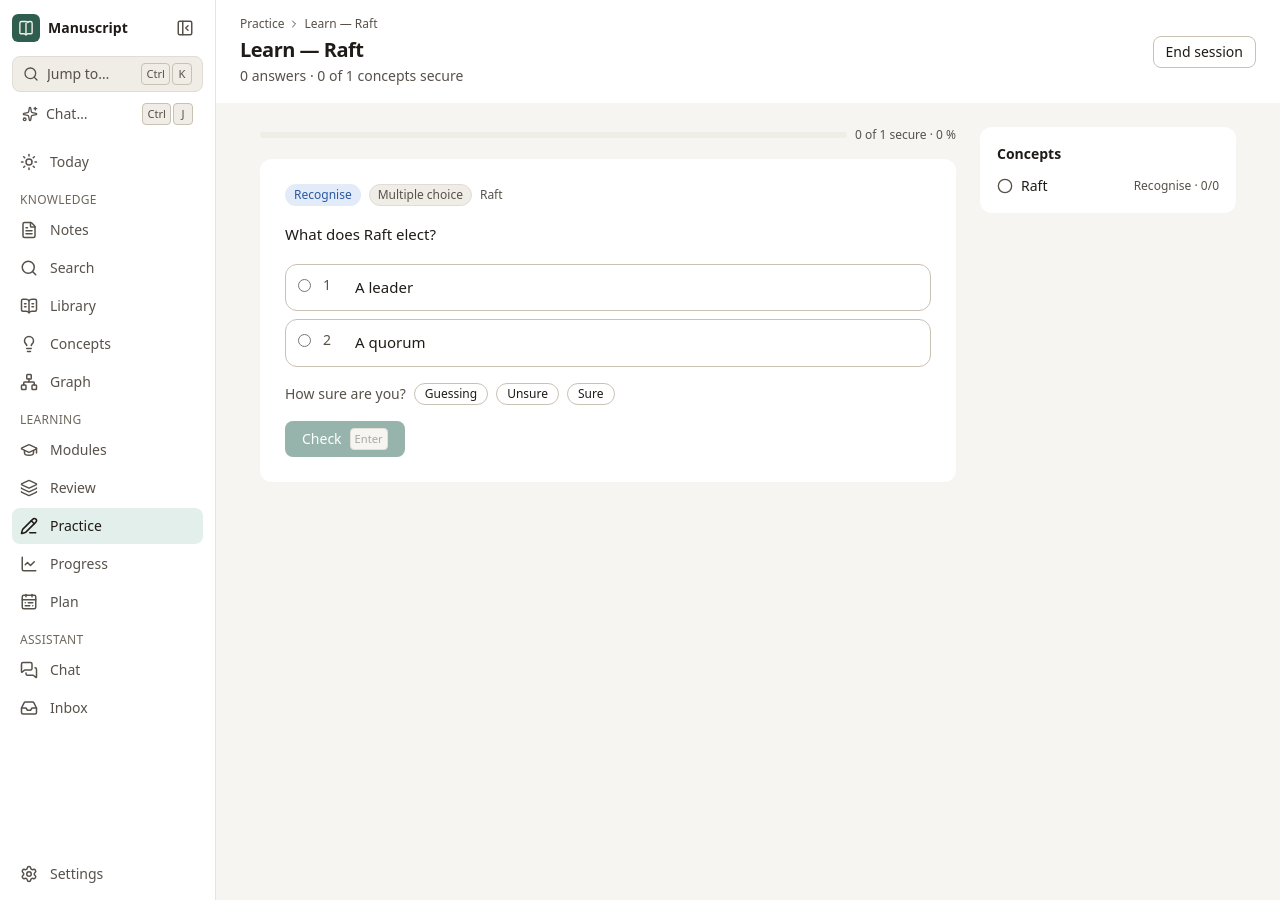
Test: a Learn session › asks what the engine chooses, shows the feedback, and ends when every concept is secure
Expected: the heading "Learn — Raft" is shown, 240,36 -> 364,63
Expected: the text "Recognise" is shown, 285,184 -> 361,206
Click the radio button labelled "1 A leader": (304, 285) 298,278 -> 311,292
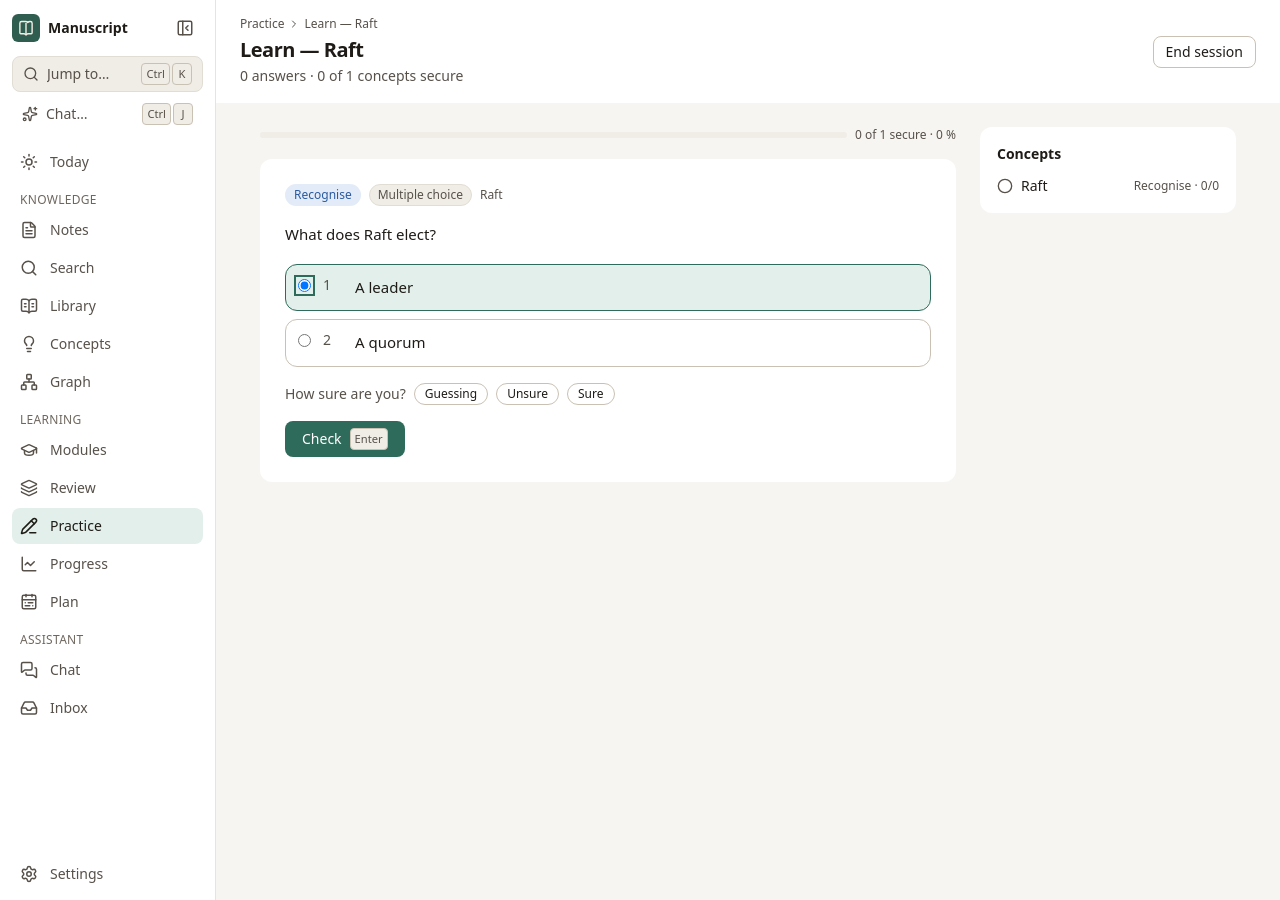
Click the button "Check Enter": (345, 438) 285,420 -> 405,456
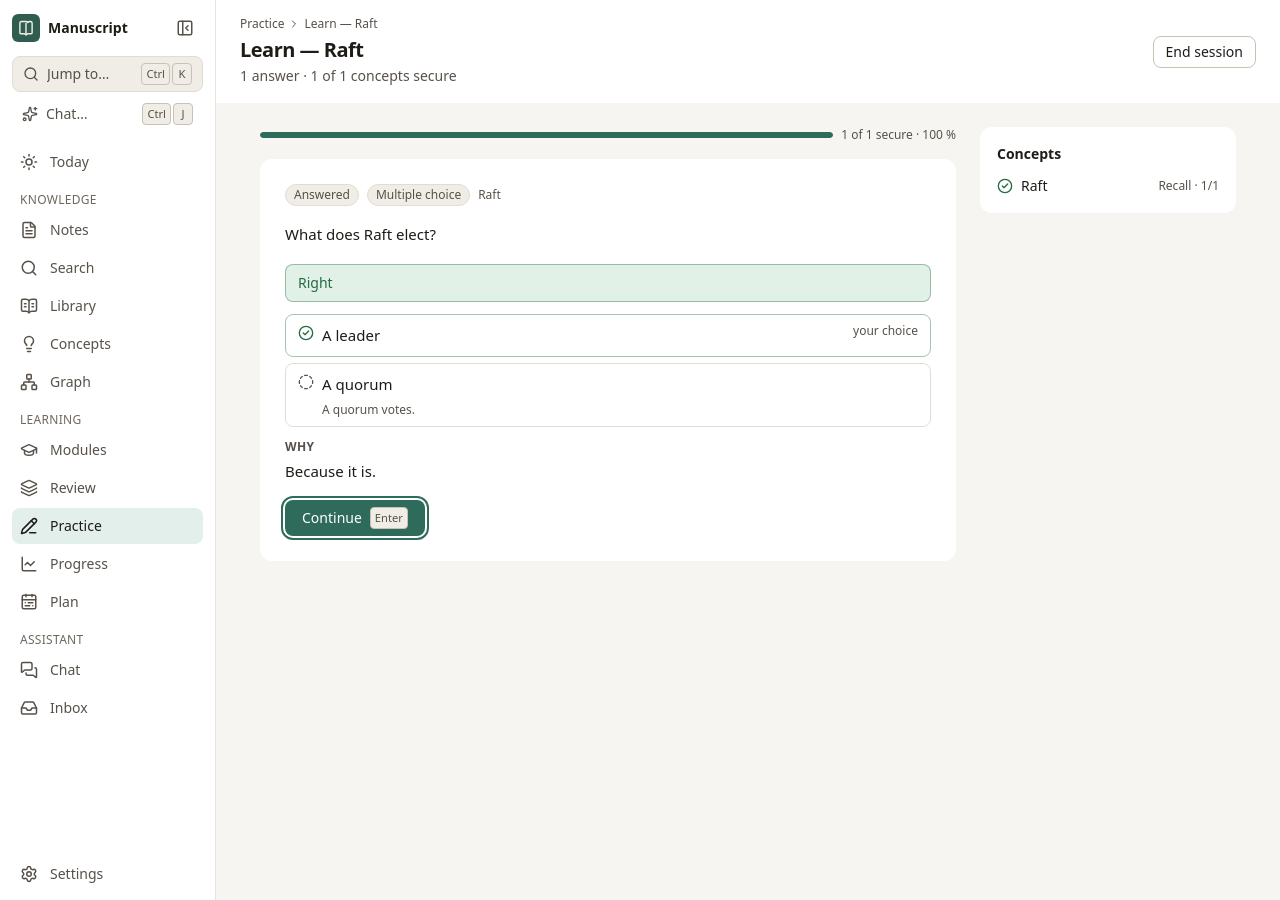
Result: the message reads "Right" at 298,272 -> 333,292
Click the button "Continue Enter": (355, 518) 285,500 -> 425,536
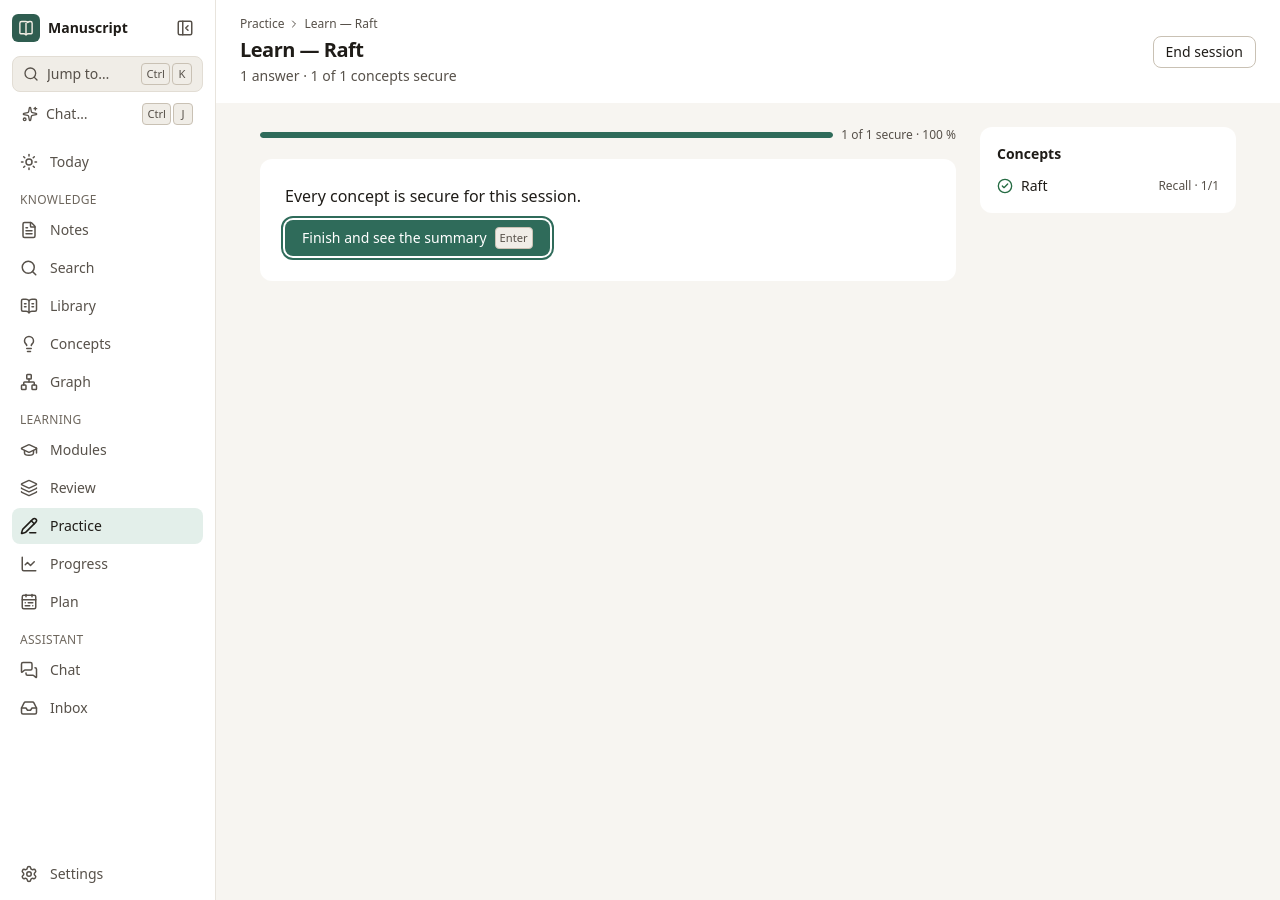
Expected: the icon named "Secure" is shown, 997,178 -> 1013,194
Result: the text "Every concept is secure for this session." is shown at 285,185 -> 581,207
